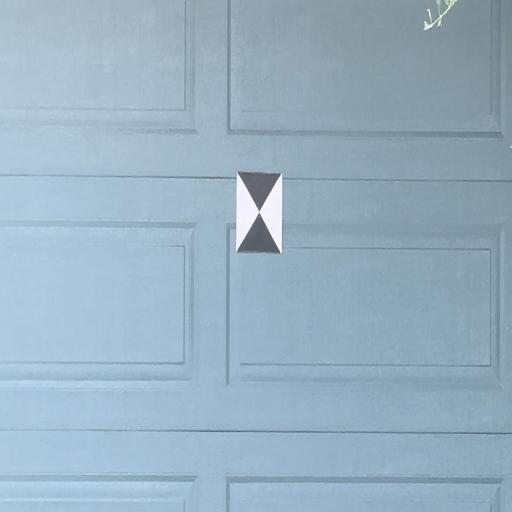target: (237, 172, 282, 253)
